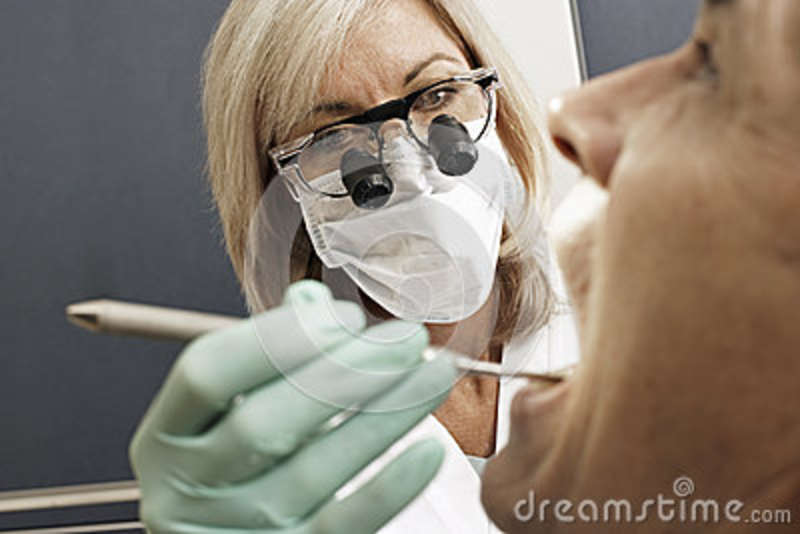mask: (299, 132, 534, 323)
